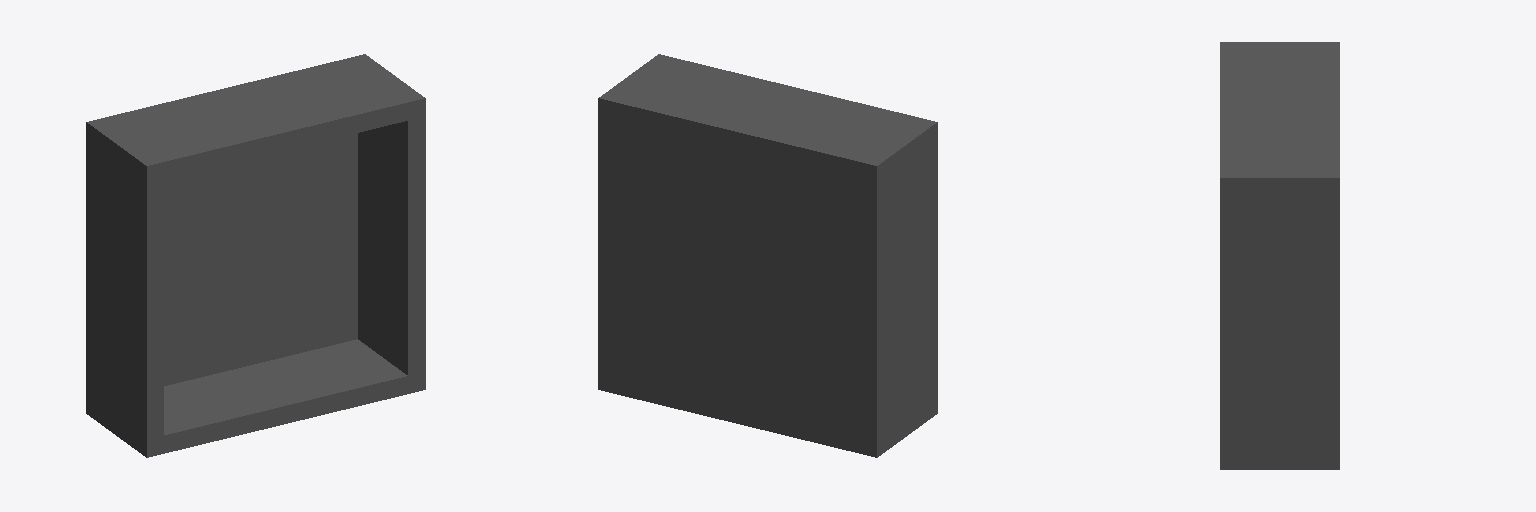
File: bin.obj
3 renders of one model, left to right at view 1: azimuth 30°, elevation 25°; view 2: azimuth 150°, elevation 25°; view 3: azimuth 270°, elevation 25°, orthographic.
Size of the model in its own units: 0.16 by 0.16 by 0.06.